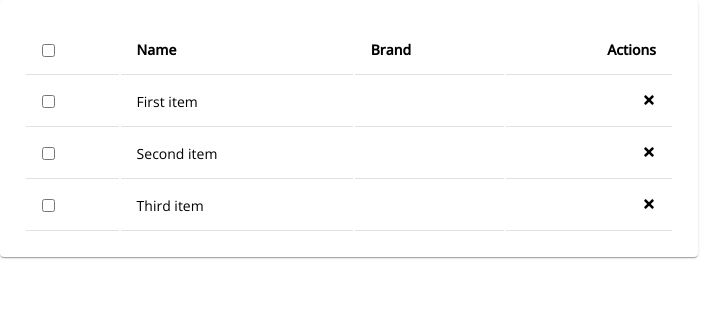
Test: <GearTable /> › should render error message if server request fails
This screenshot has width=716, height=320.
Click the button named "Delete Item 2": (649, 154) [642, 145, 656, 162]
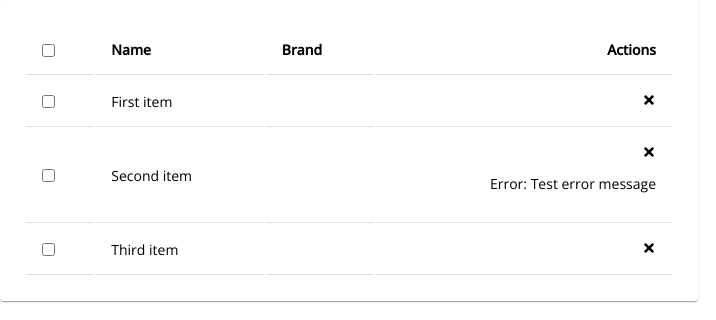
Check: the text "Test error message" is shown, box [490, 174, 656, 193]
